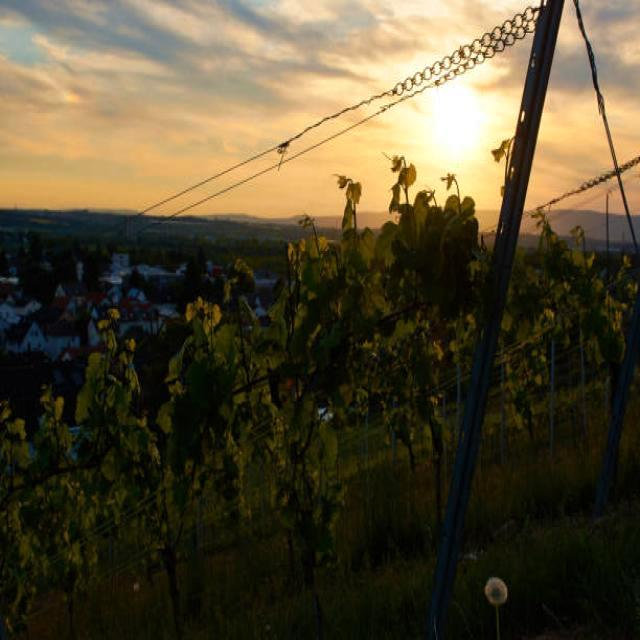Broken Pole: (415, 0, 576, 640)
